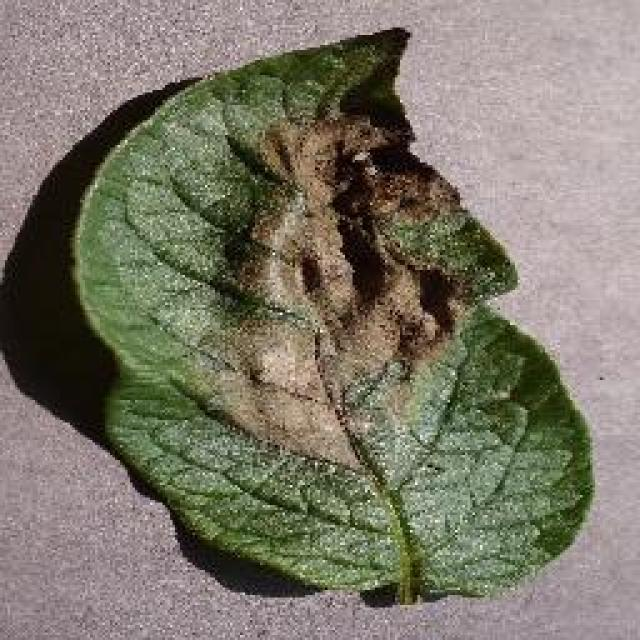late_blight: (68, 23, 598, 605)
